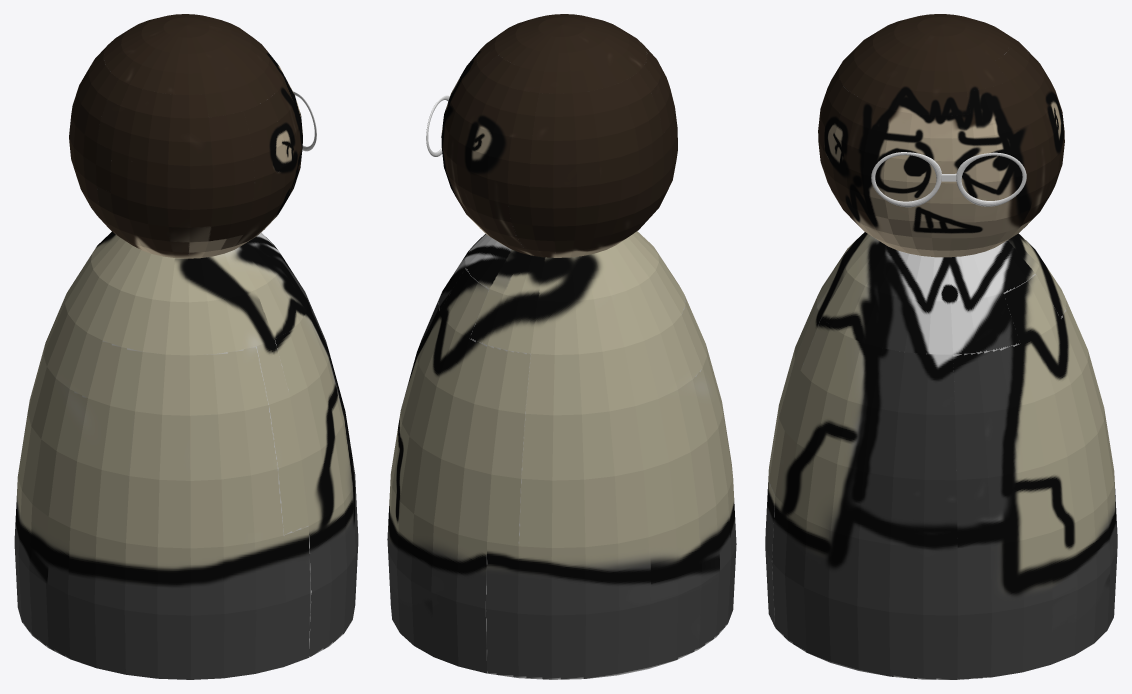
File: AL doll official.fbx
The picture shows the model from 3 angles, left to right: view 1: azimuth 30°, elevation 25°; view 2: azimuth 150°, elevation 25°; view 3: azimuth 270°, elevation 25°; orthographic projection.
Parts seen in each view (by area): view 1: Body; view 2: Body; view 3: Body.
Boxes of the visible parts, x1,y1,x2,y2 form: Body: (14,14,358,679); Body: (387,14,736,679); Body: (765,14,1117,679).
Size of the model in its own units: 249 by 464 by 254.
